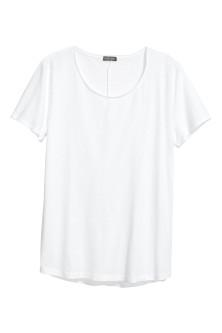teeshirt: (17, 45, 216, 291)
